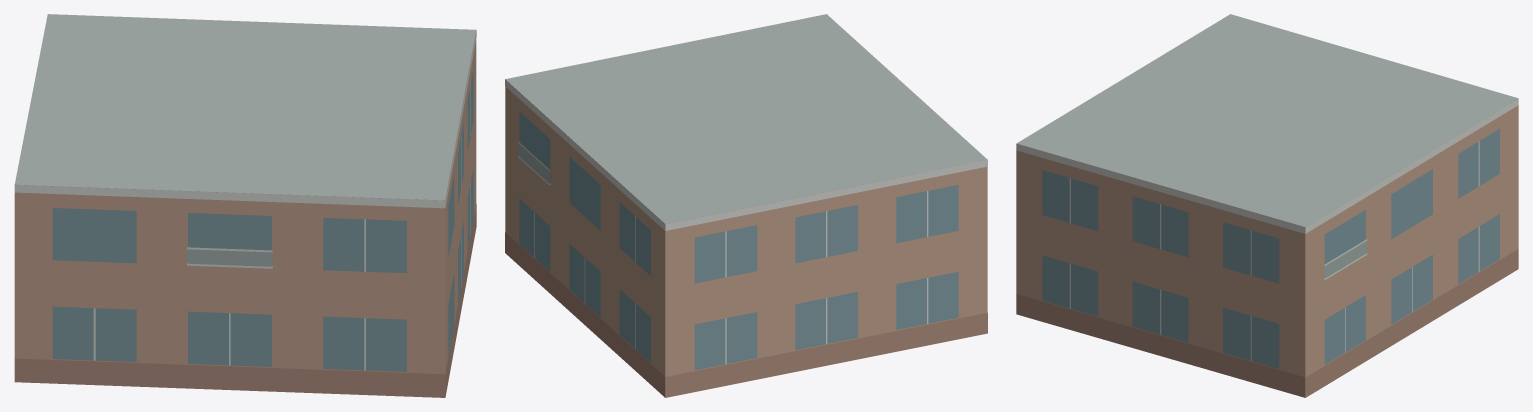
File: survey-upis-32706672.glb
3 renders of one model, left to right at view 1: azimuth 30°, elevation 25°; view 2: azimuth 150°, elevation 25°; view 3: azimuth 270°, elevation 25°, orthographic. The views are drawn at different scales.
Visible parts, largest first — view 1: survey-upis-32706672.tmp; view 2: survey-upis-32706672.tmp; view 3: survey-upis-32706672.tmp.
Part boxes in pixels (bbox=[...]): survey-upis-32706672.tmp: bbox=[14, 14, 476, 397]; survey-upis-32706672.tmp: bbox=[505, 14, 987, 397]; survey-upis-32706672.tmp: bbox=[1016, 14, 1518, 397].
Size of the model in its own units: 16.34 by 6.1 by 16.27.
